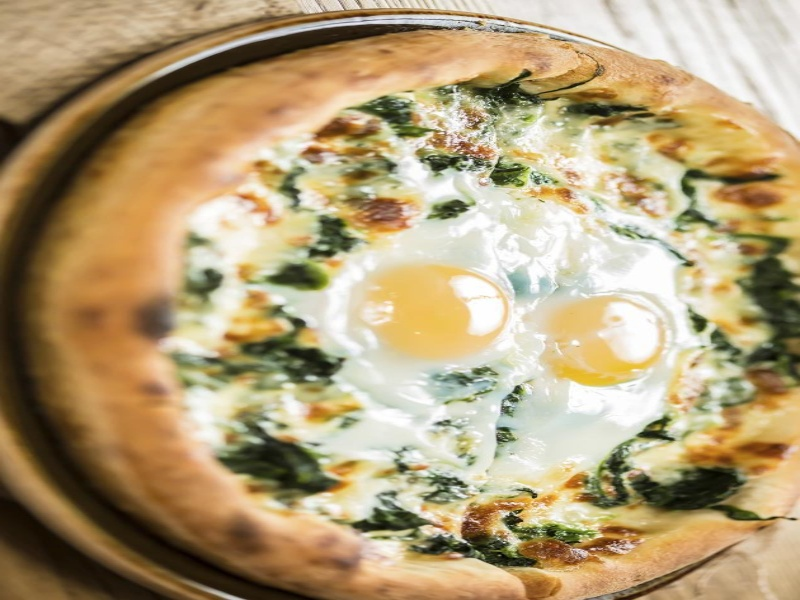oeuf: (340, 257, 523, 380), (536, 277, 676, 399)
